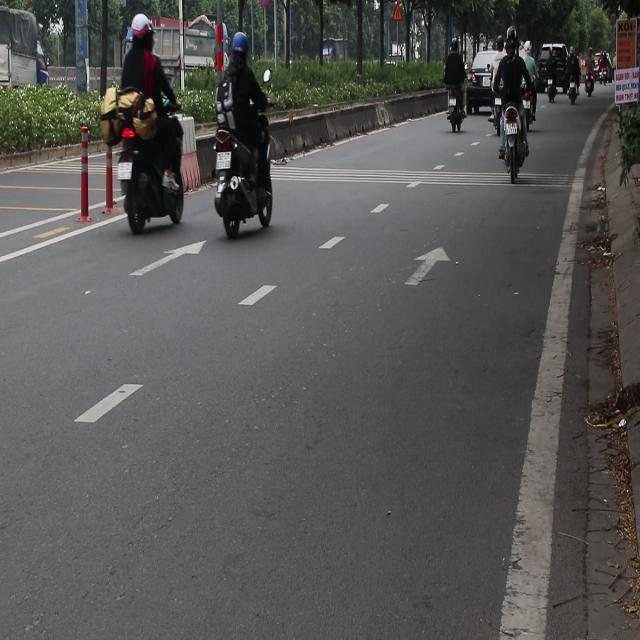car: (0, 7, 48, 85), (467, 50, 507, 111), (539, 39, 567, 89)
motorbike: (114, 93, 187, 234), (214, 115, 274, 239), (492, 98, 526, 176), (435, 85, 467, 151), (584, 63, 599, 94), (549, 68, 557, 107), (584, 72, 596, 97), (568, 73, 576, 107)
truck: (118, 5, 234, 87)
